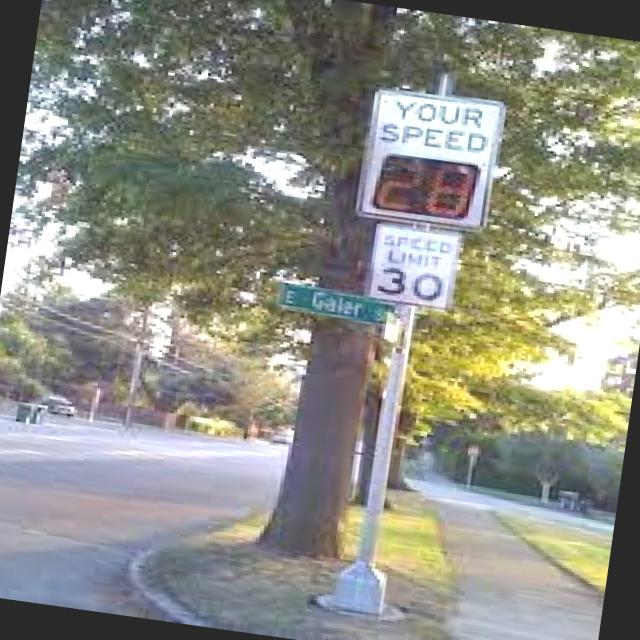Speed Limit Signs: (360, 218, 466, 314)
